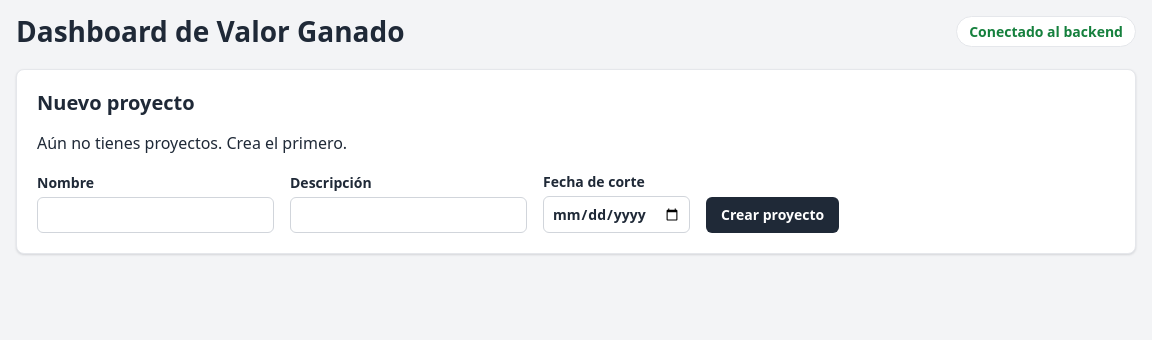
Test: App projects workflow › requires a project name
What coordinates should you click on to do the following:
click the button "Crear proyecto"
I would click on:
 (773, 215)
Its box is [706,197,839,233].
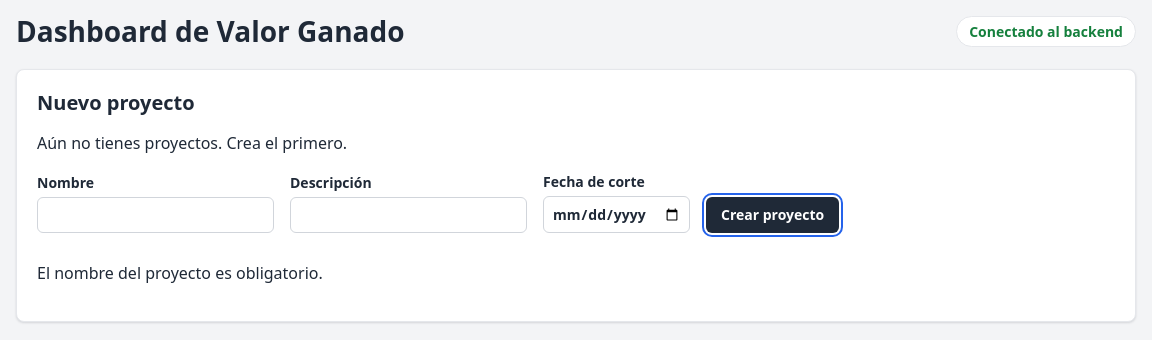
Check: the message reads "El nombre del proyecto es obligatorio.", box [37,262,323,284]
